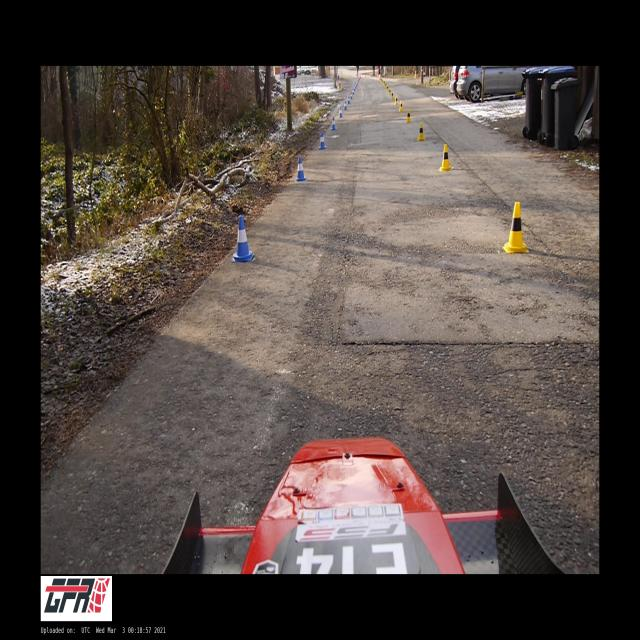blue_cone: (232, 216, 254, 262), (296, 157, 306, 181), (319, 132, 326, 148), (331, 118, 336, 130), (339, 107, 343, 118), (344, 101, 347, 110), (350, 93, 353, 99), (348, 96, 350, 104)
yellow_cone: (503, 202, 528, 252), (440, 144, 451, 170), (418, 122, 424, 141), (406, 109, 411, 122), (399, 100, 403, 111), (394, 96, 398, 104), (391, 91, 394, 99), (389, 89, 391, 95)
